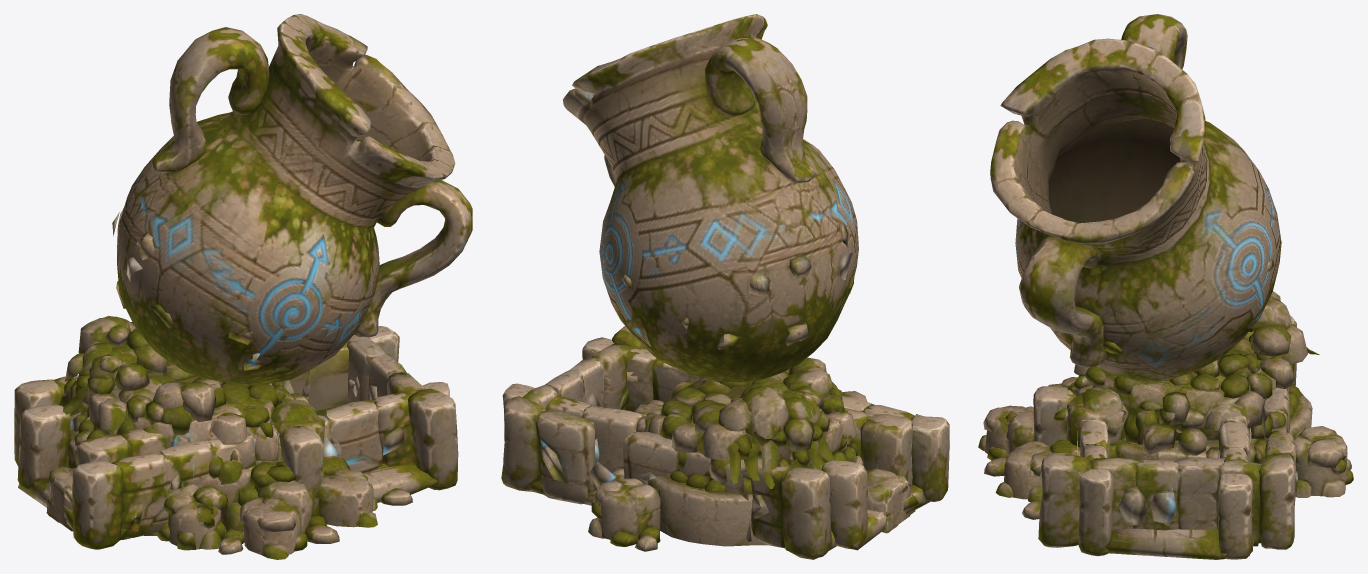
The model's file is ruinas_agua.glb.
The picture shows the model from 3 angles, left to right: view 1: azimuth 30°, elevation 25°; view 2: azimuth 150°, elevation 25°; view 3: azimuth 270°, elevation 25°; orthographic projection. The views are drawn at different scales.
Parts seen in each view (by area): view 1: tinaja_ruina, canal_recto, canal_codo; view 2: tinaja_ruina, canal_codo, canal_recto; view 3: tinaja_ruina, canal_codo, canal_recto.
Boxes of the visible parts, x1,y1,x2,y2 form: tinaja_ruina: [46, 14, 472, 559]; canal_recto: [17, 326, 449, 549]; canal_codo: [14, 335, 458, 515]; tinaja_ruina: [563, 14, 915, 551]; canal_codo: [501, 326, 912, 559]; canal_recto: [502, 337, 949, 550]; tinaja_ruina: [978, 14, 1353, 519]; canal_codo: [1033, 315, 1298, 549]; canal_recto: [1077, 375, 1254, 559].
Size of the model in its own units: 0.493 by 0.5553 by 0.4244.
1 material, 1 textured.
